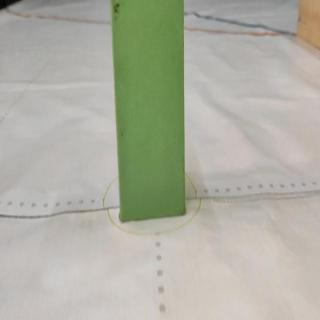greenbox: (111, 2, 190, 223)
